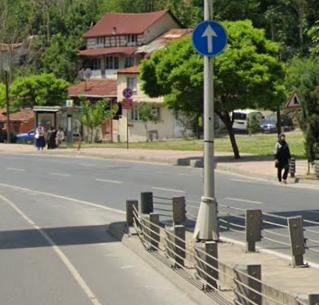forward: (194, 22, 227, 57)
